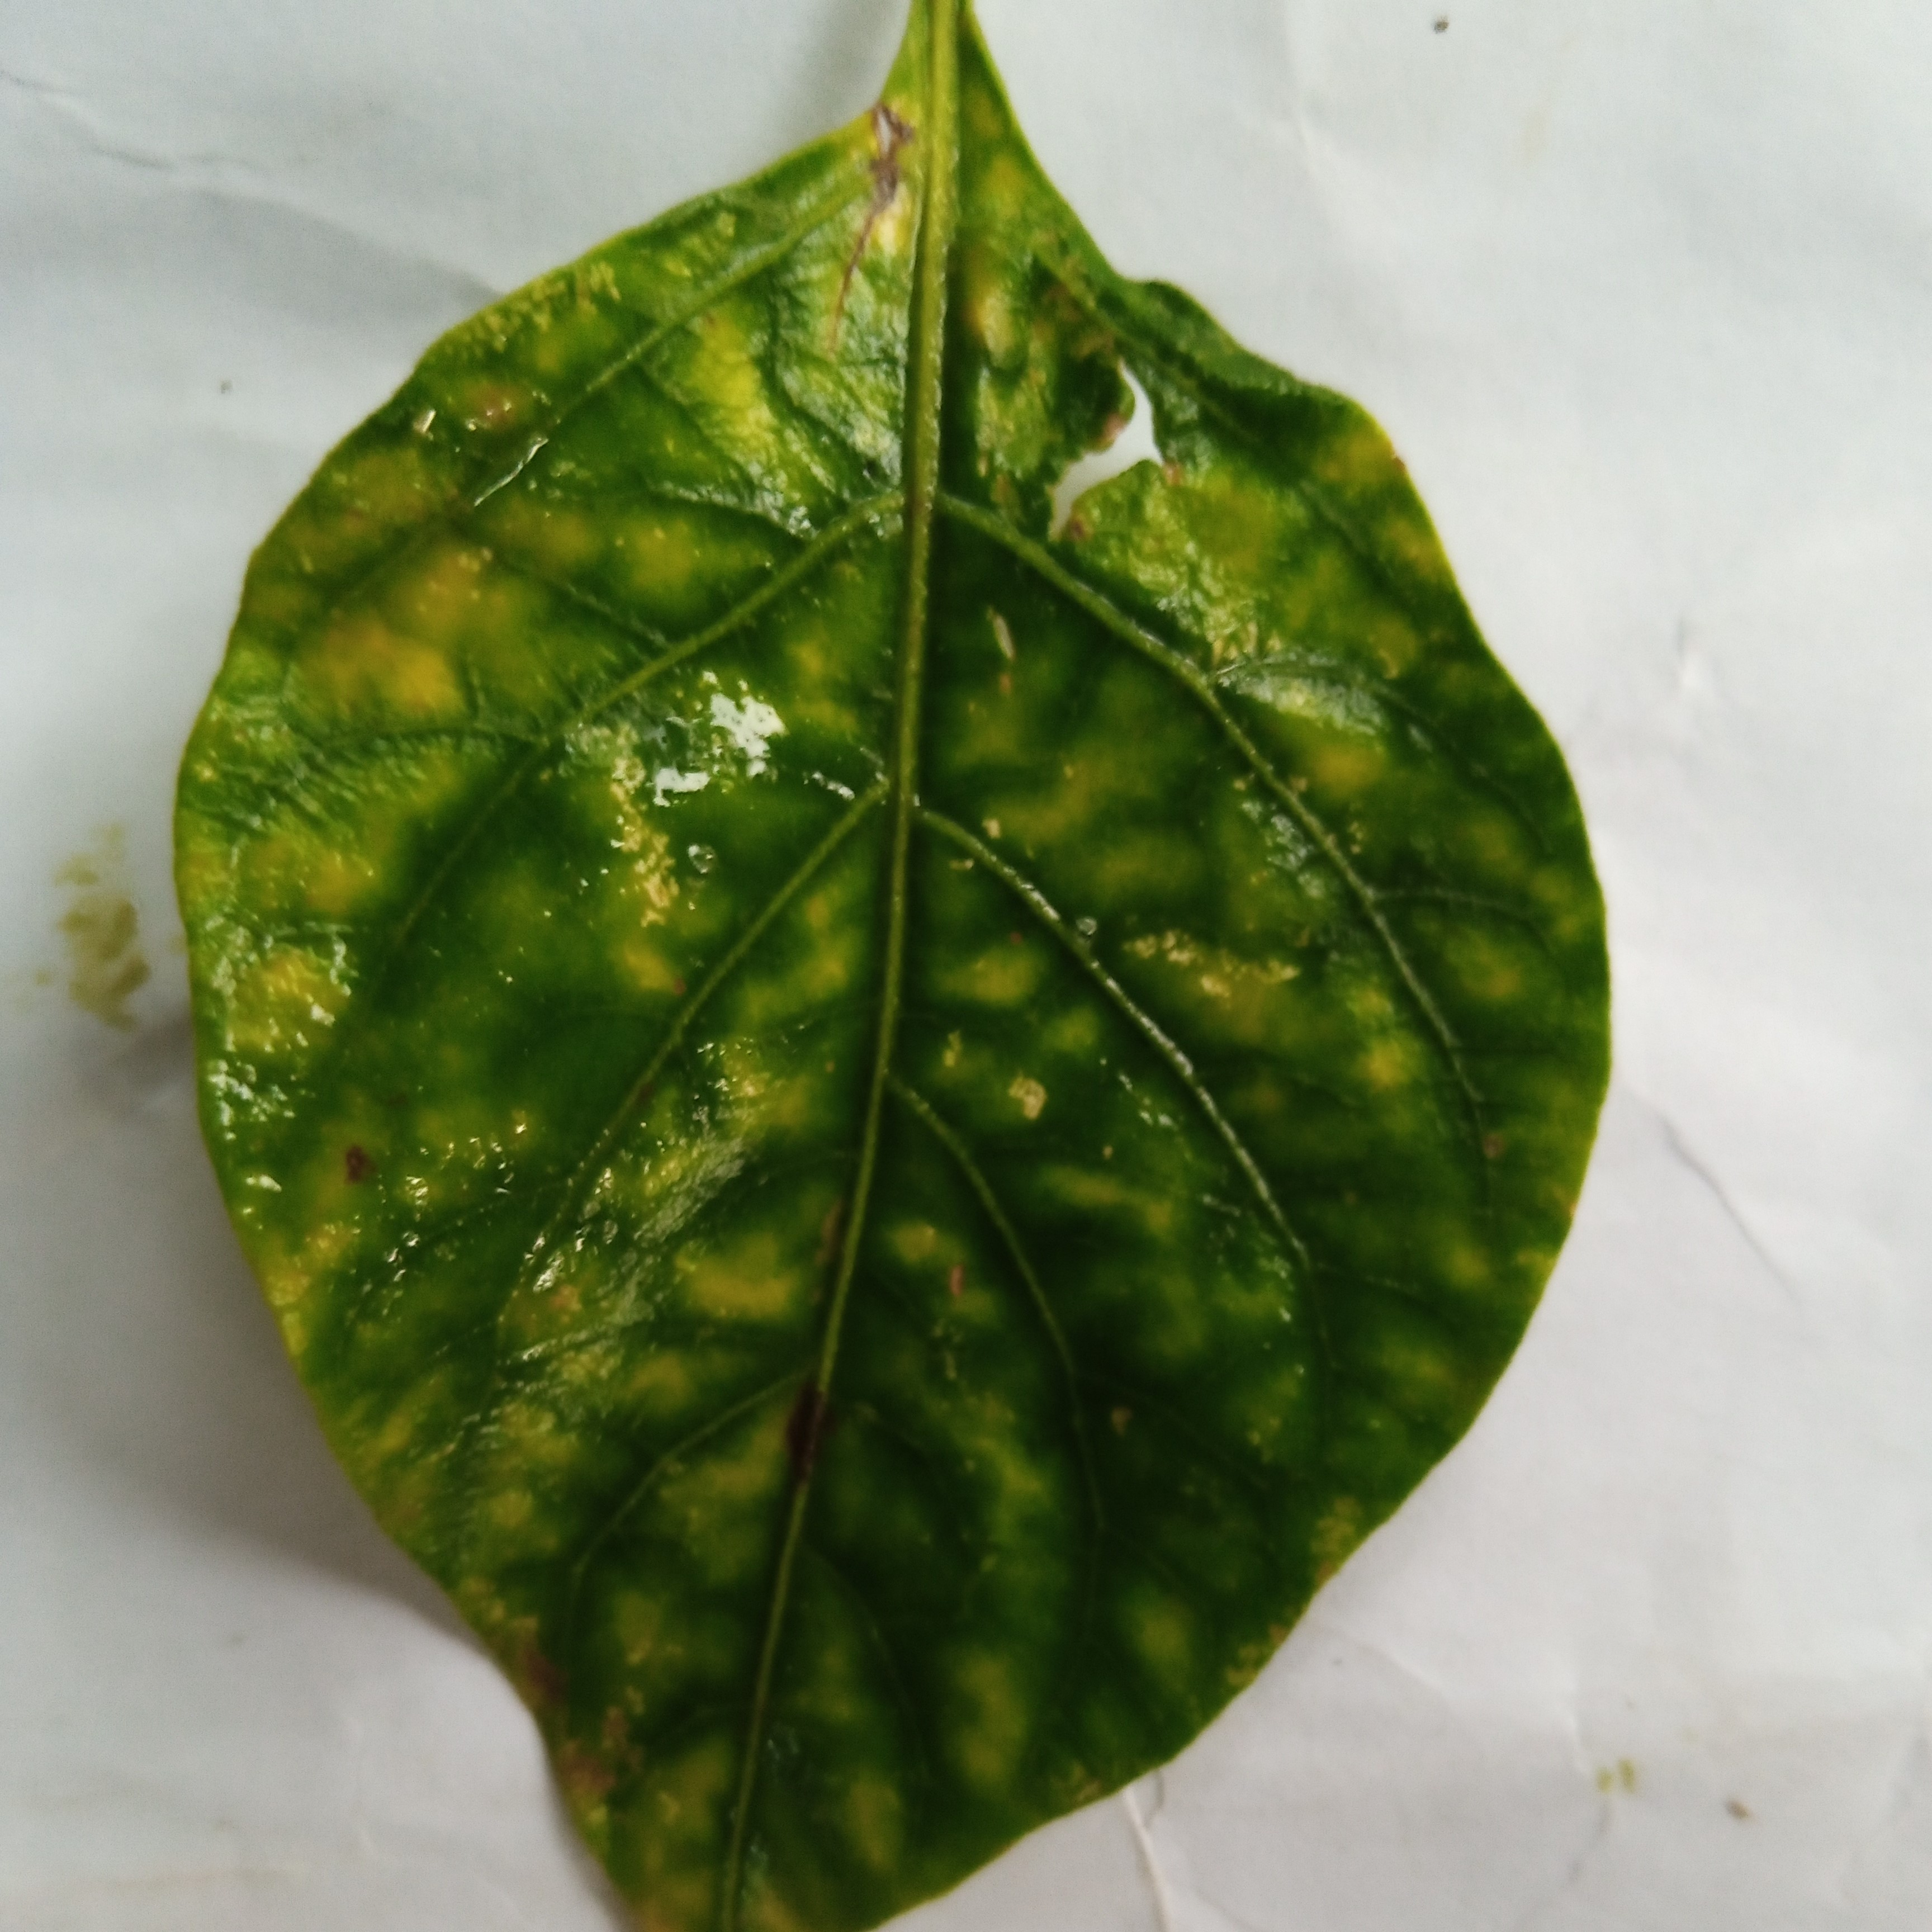Leaf: (57, 58, 1651, 1932)
